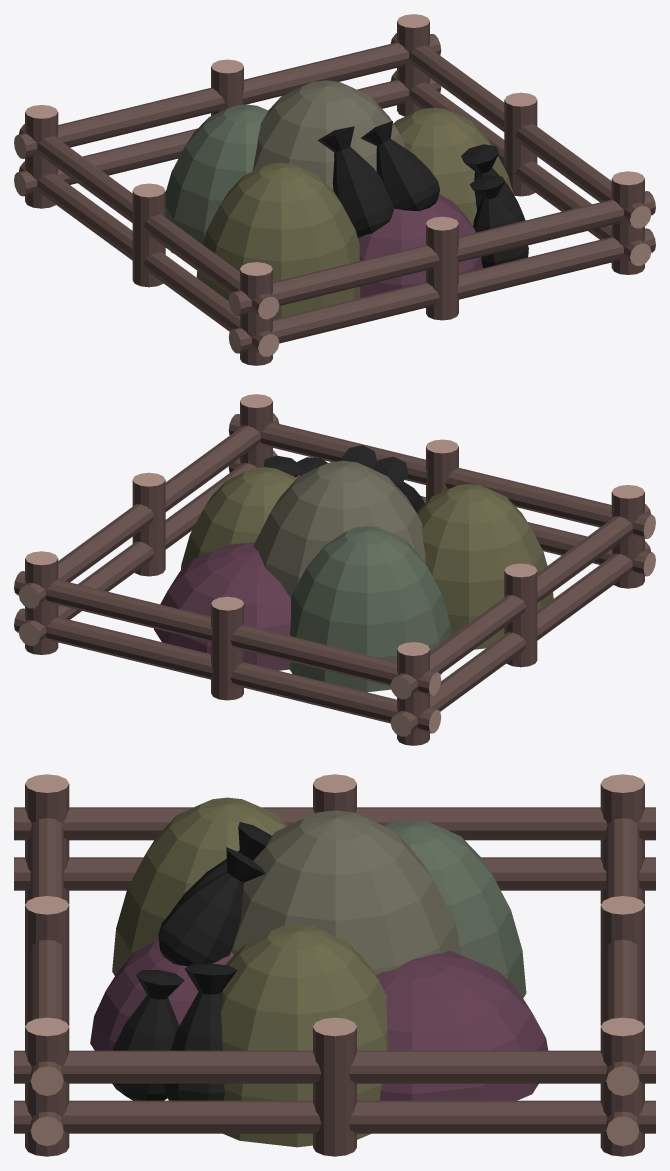
File: dump.fbx
The picture shows the model from 3 angles, top to bottom: view 1: azimuth 30°, elevation 25°; view 2: azimuth 150°, elevation 25°; view 3: azimuth 270°, elevation 25°; orthographic projection. The views are drawn at different scales.
Parts seen in each view (by area): view 1: Sphere.002; view 2: Sphere.002; view 3: Sphere.002.
Boxes of the visible parts, box(x1,y1,x2,y2) form: Sphere.002: box(14, 14, 655, 365); Sphere.002: box(14, 394, 655, 745); Sphere.002: box(14, 774, 655, 1156).
Bounding box in the file's own units: 580 × 219 × 580.
